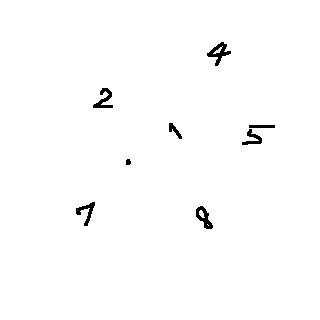.: (119, 151, 139, 173)
1: (158, 115, 197, 144)
2: (90, 80, 119, 121)
4: (199, 38, 240, 73)
5: (239, 119, 283, 153)
7: (69, 198, 98, 231)
8: (190, 200, 224, 236)
